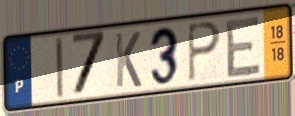3: (148, 23, 185, 89)
7: (70, 29, 108, 99)
E: (225, 13, 263, 81)
I: (54, 35, 66, 102)
K: (113, 29, 143, 90)
P: (185, 20, 223, 85)
